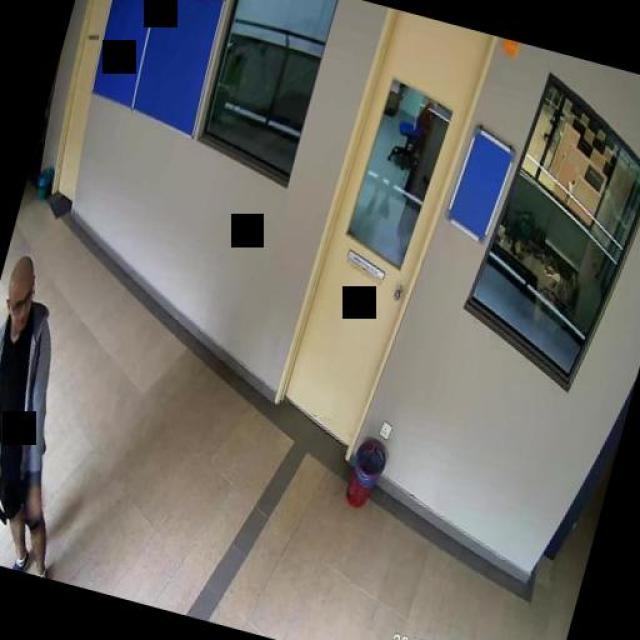gun: (0, 477, 12, 521)
